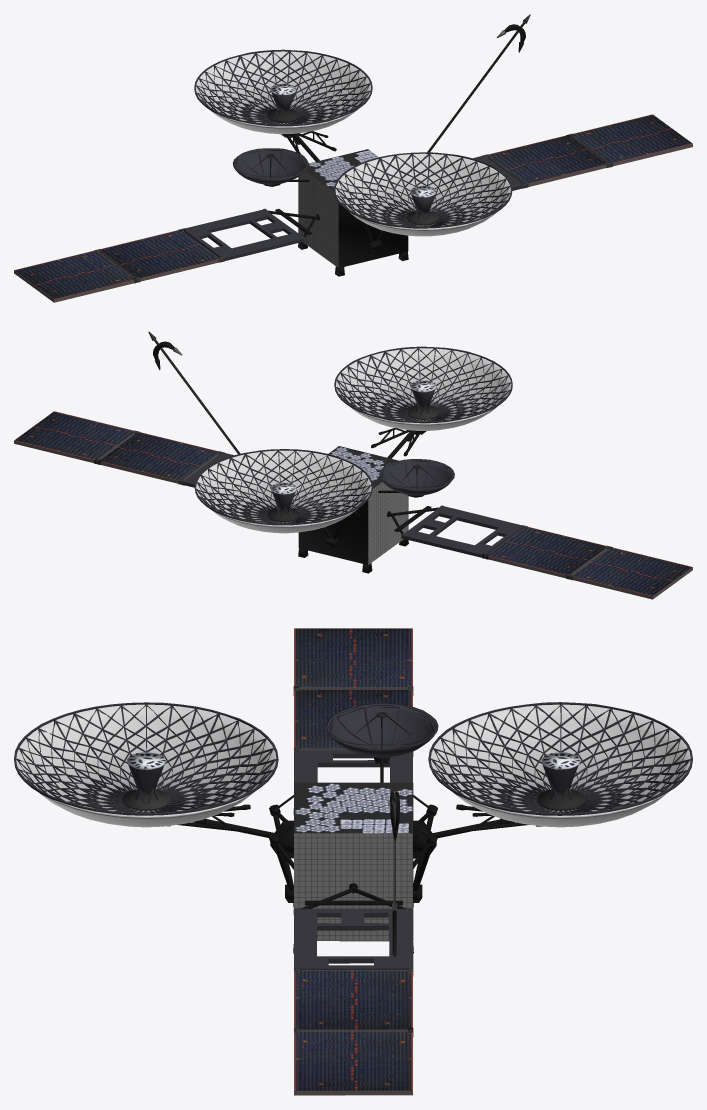
File: TDRS_B.glb
The picture shows the model from 3 angles, top to bottom: view 1: azimuth 30°, elevation 25°; view 2: azimuth 150°, elevation 25°; view 3: azimuth 270°, elevation 25°; orthographic projection. The views are drawn at different scales.
Parts seen in each view (by area): view 1: tex_01, shiny_panel, tex_02, black_krinkle, foil_silver; view 2: tex_01, shiny_panel, tex_02, black_krinkle, foil_silver; view 3: tex_01, shiny_panel, tex_02, black_krinkle, foil_silver.
Part boxes in pixels (x1=…): tex_01: x1=89, y1=49, x2=692, y2=294; shiny_panel: x1=14, y1=114, x2=692, y2=302; tex_02: x1=195, y1=51, x2=510, y2=236; black_krinkle: x1=263, y1=24, x2=525, y2=276; foil_silver: x1=94, y1=14, x2=612, y2=283; tex_01: x1=101, y1=346, x2=522, y2=557; shiny_panel: x1=14, y1=411, x2=692, y2=599; tex_02: x1=196, y1=348, x2=511, y2=533; black_krinkle: x1=153, y1=341, x2=438, y2=573; foil_silver: x1=94, y1=331, x2=612, y2=580; tex_01: x1=14, y1=702, x2=692, y2=1095; shiny_panel: x1=294, y1=628, x2=412, y2=1095; tex_02: x1=16, y1=704, x2=690, y2=827; black_krinkle: x1=167, y1=757, x2=542, y2=953; foil_silver: x1=122, y1=686, x2=584, y2=1037.
Bounding box in the file's own units: 21.12 × 5.76 × 13.11.
Materials: 5 (4 with a texture image).
